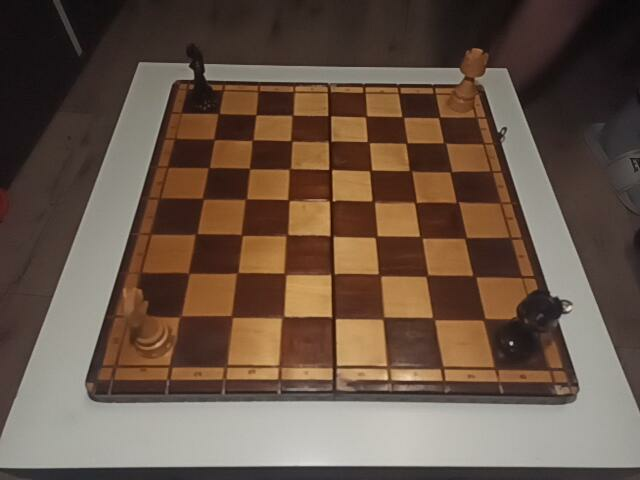B-Knight: (185, 44, 218, 111)
B-Rook: (498, 289, 563, 364)
W-Knight: (122, 288, 174, 358)
W-Rook: (448, 48, 489, 112)
